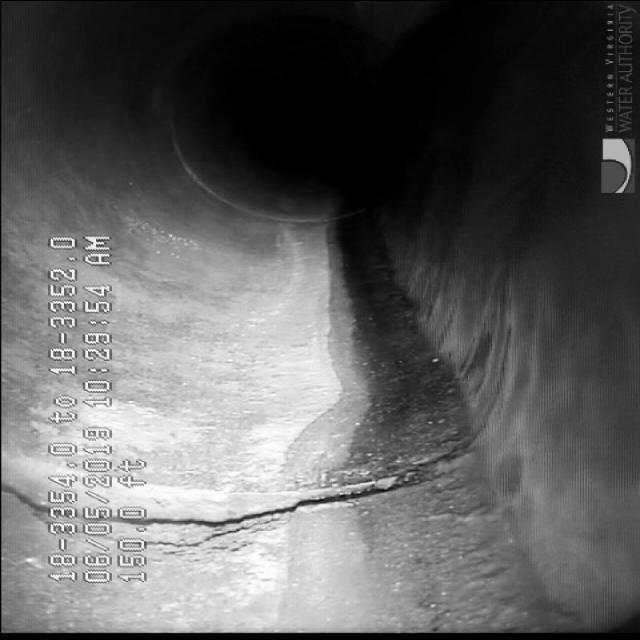Fracture: (158, 418, 456, 552)
